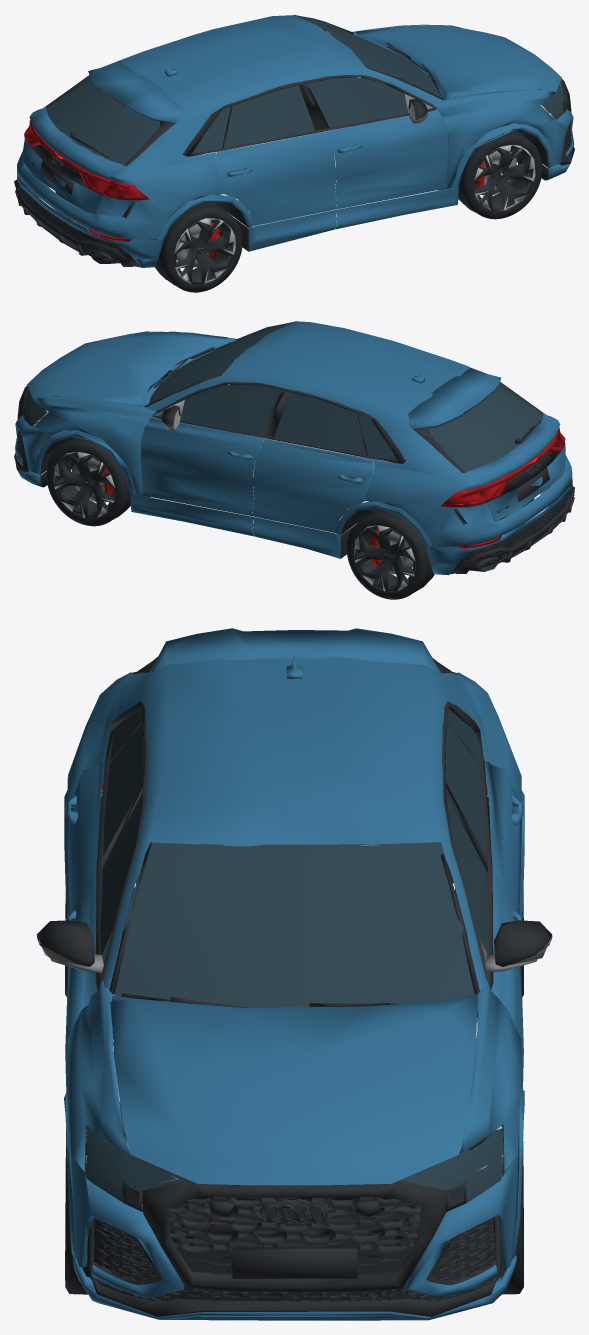
The model's file is car-blue.glb.
3 views of the same model, one above another, from view 1: azimuth 30°, elevation 25°; view 2: azimuth 150°, elevation 25°; view 3: azimuth 270°, elevation 25° (orthographic). The views are drawn at different scales.
Visible parts, largest first — view 1: car-blue; view 2: car-blue; view 3: car-blue.
Part boxes in pixels (bbox=[...]): car-blue: bbox=[14, 14, 574, 292]; car-blue: bbox=[14, 321, 574, 599]; car-blue: bbox=[36, 628, 552, 1320].
Size of the model in its own units: 5 by 1.71 by 2.23.
